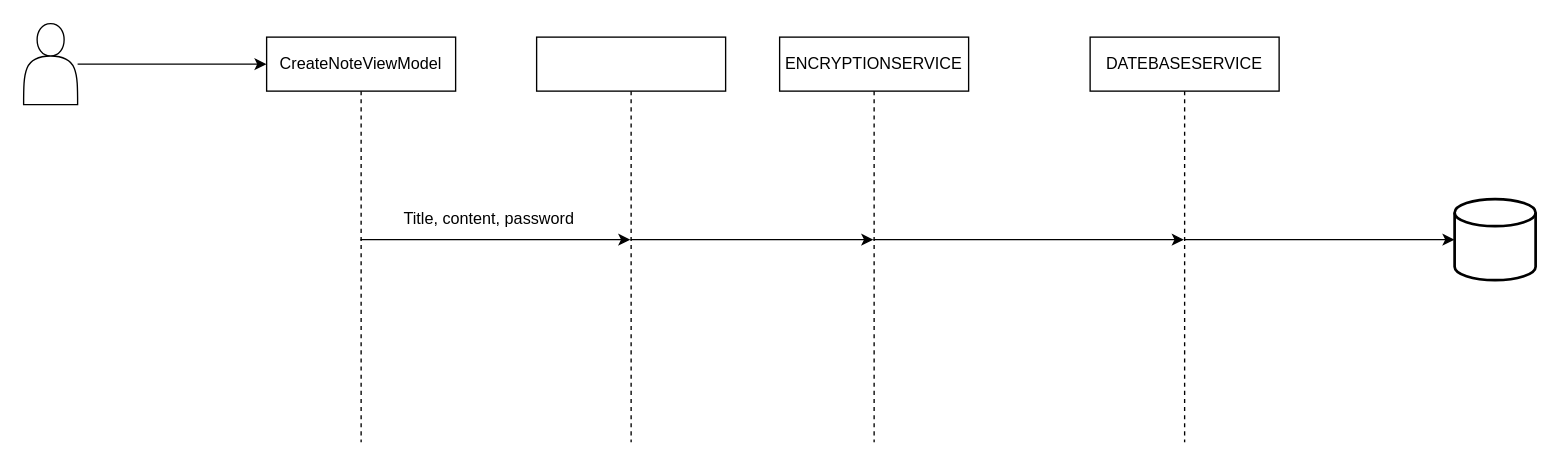
This 1561x466 diagram has some shape labels left out. Here are the shapes that lost their labels. From the top down, the box of each, then its label:
(535, 36, 726, 442): ΝΟΤΕSERVICE
(1453, 197, 1536, 281): DB
